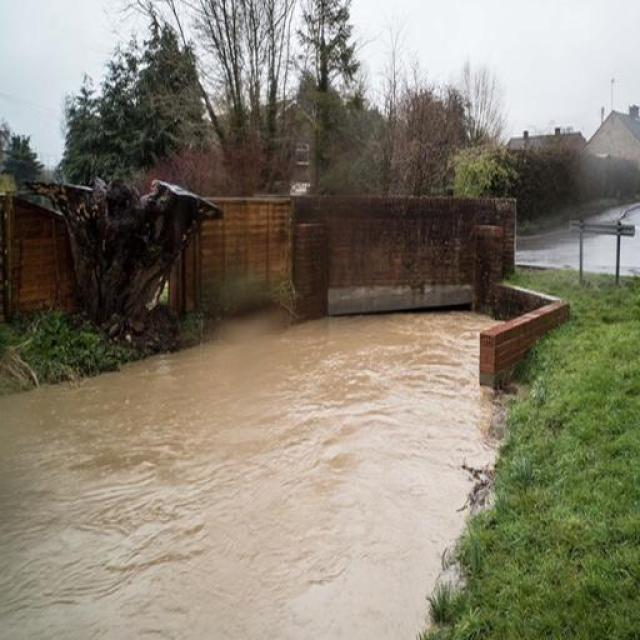puddle: (3, 398, 427, 640), (229, 324, 480, 469)
